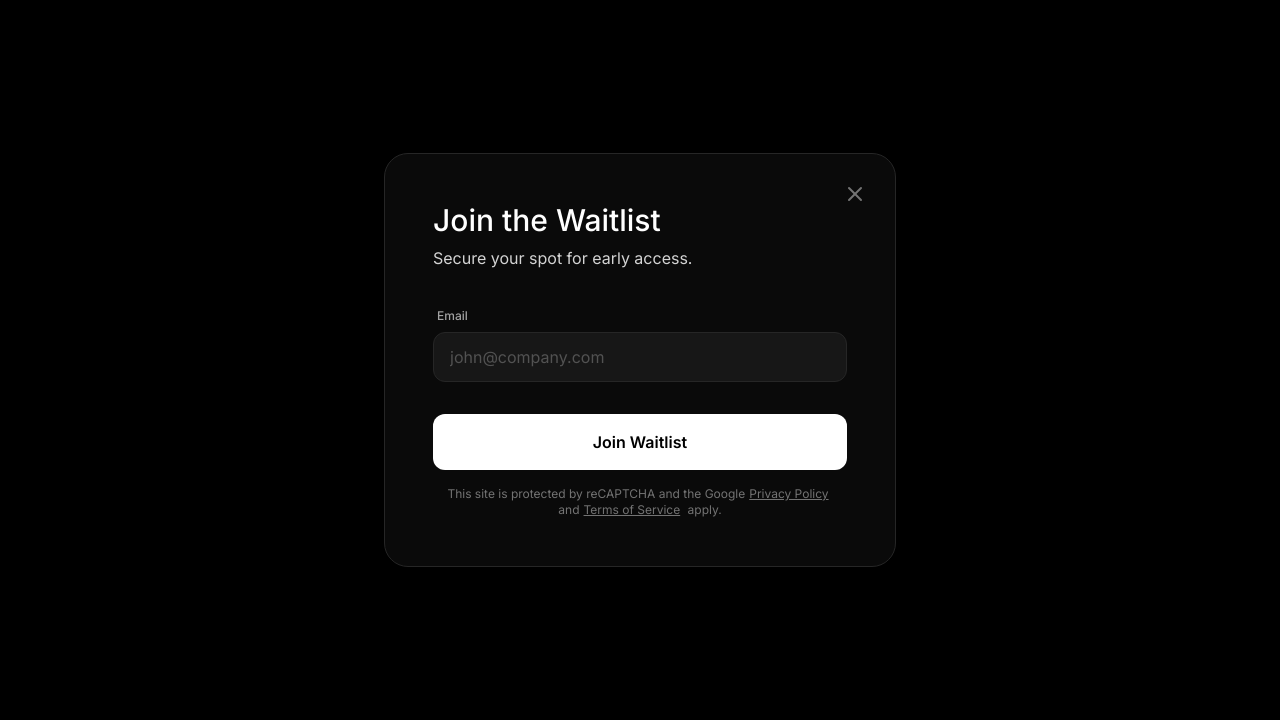
Test case: Waitlist Modal Tests › Success State Tests › TC-SUCC-004: Verify user number is displayed if provided (#X on the list) › should display user number
This screenshot has width=1280, height=720.
Step 1. Type "test@example.com" into the field labelled "Email" → (640, 357), box [433, 332, 847, 382]
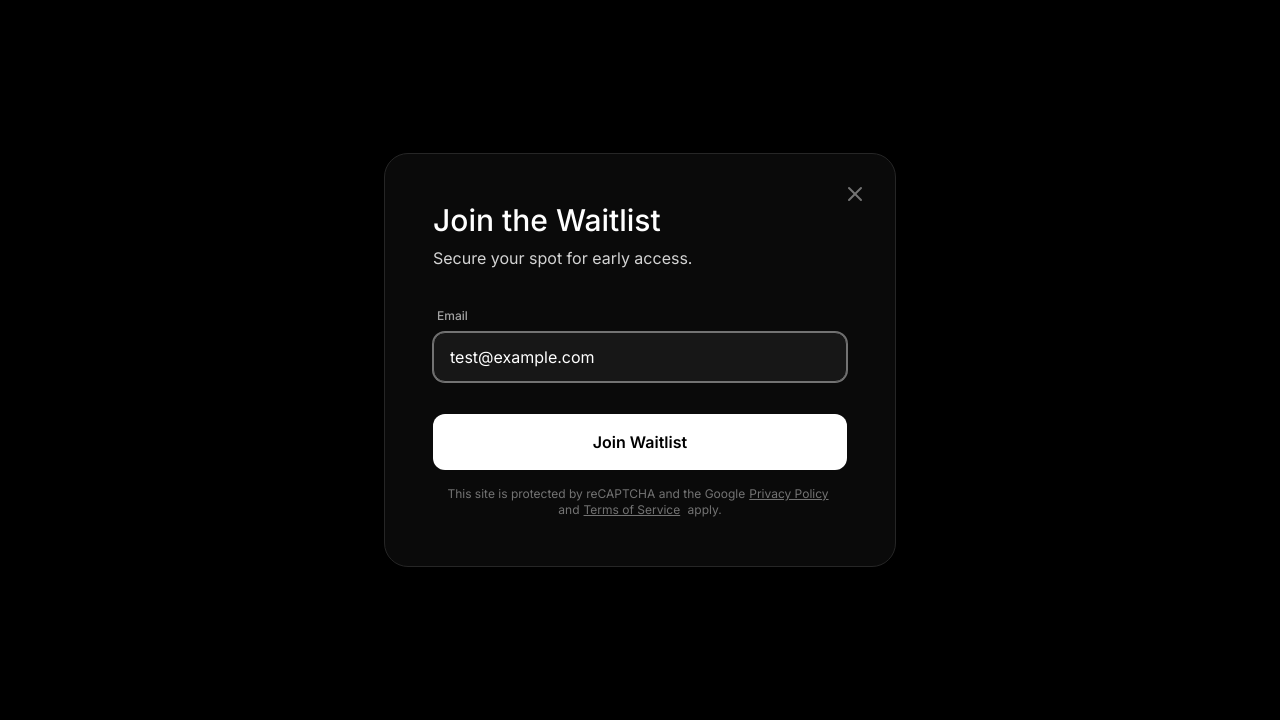
Step 2. Click the button "Join Waitlist" → click(640, 442), box [433, 414, 847, 470]
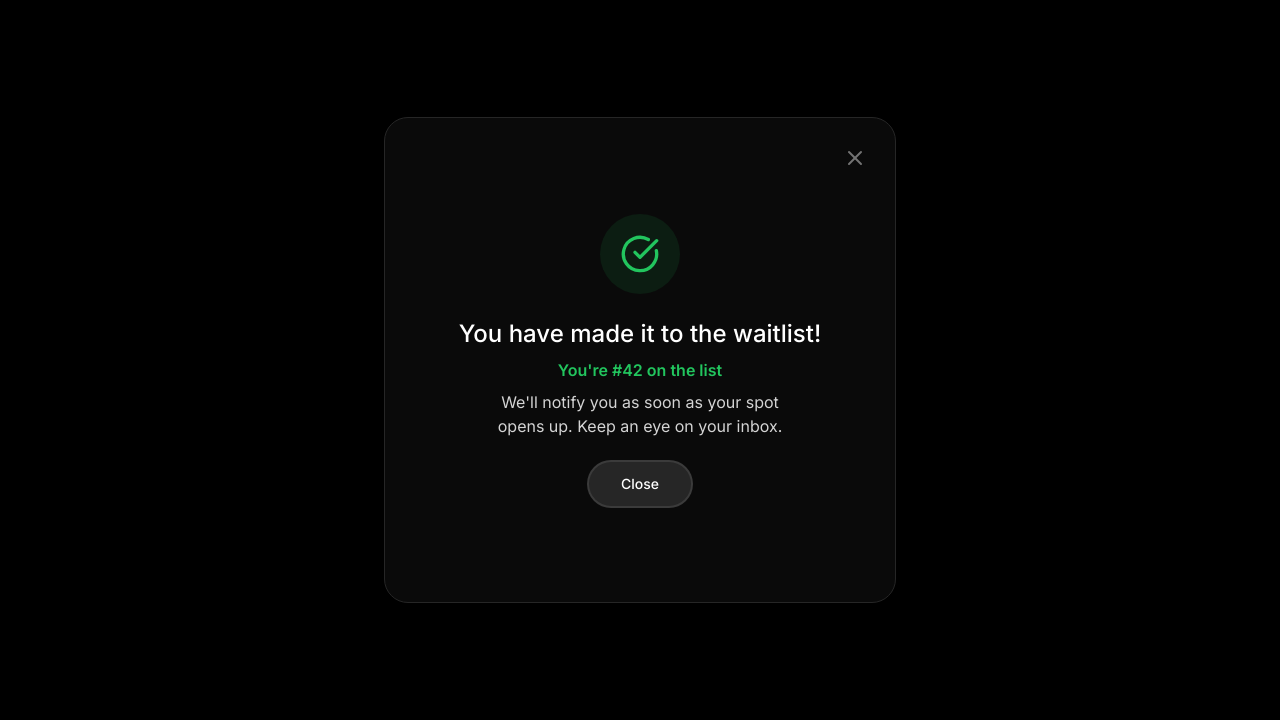
Check: the text "You're #42 on the list" is shown, box [558, 360, 722, 380]
